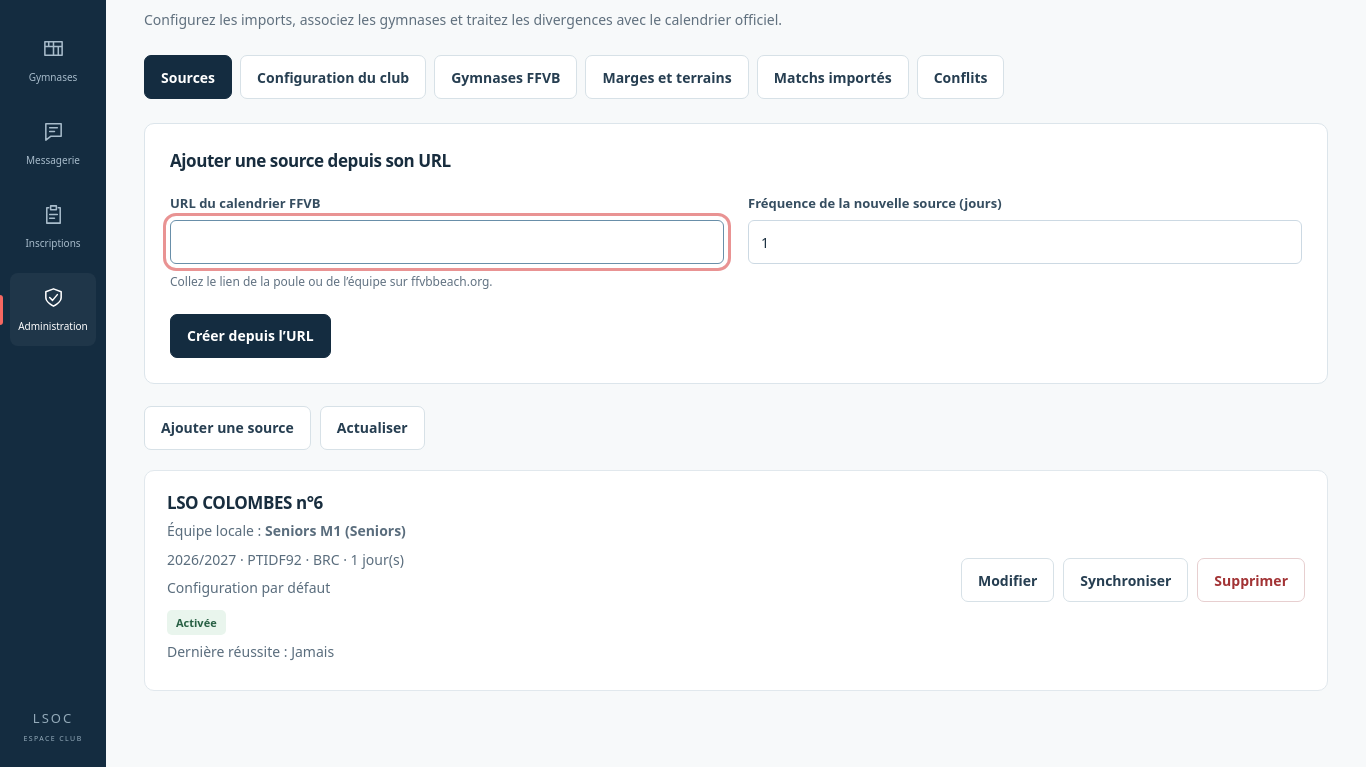
supprime une source et ses matchs après confirmation
(page scrolled)
Click the button "Supprimer".
click(1251, 580)  # box [1197,558,1305,602]
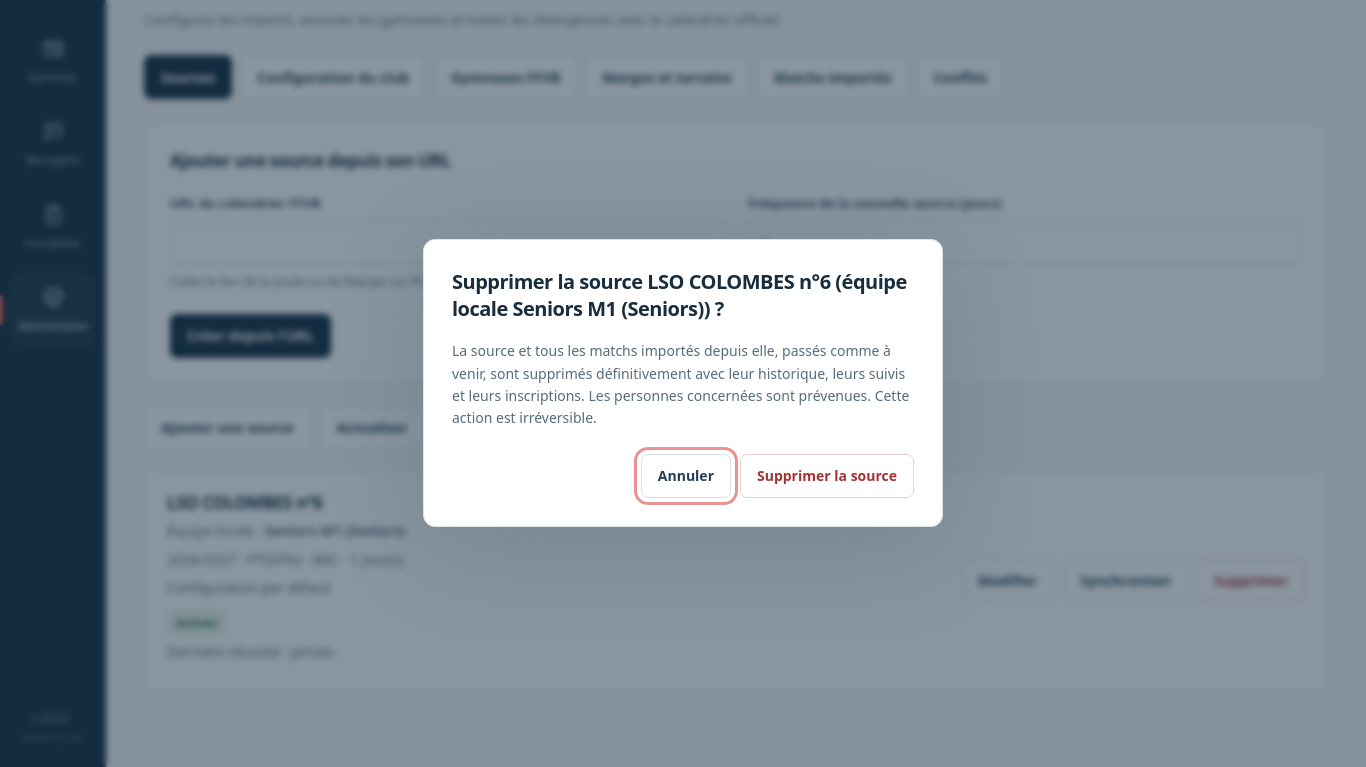
Click the button "Supprimer la source".
click(827, 476)  # box [740,454,914,498]
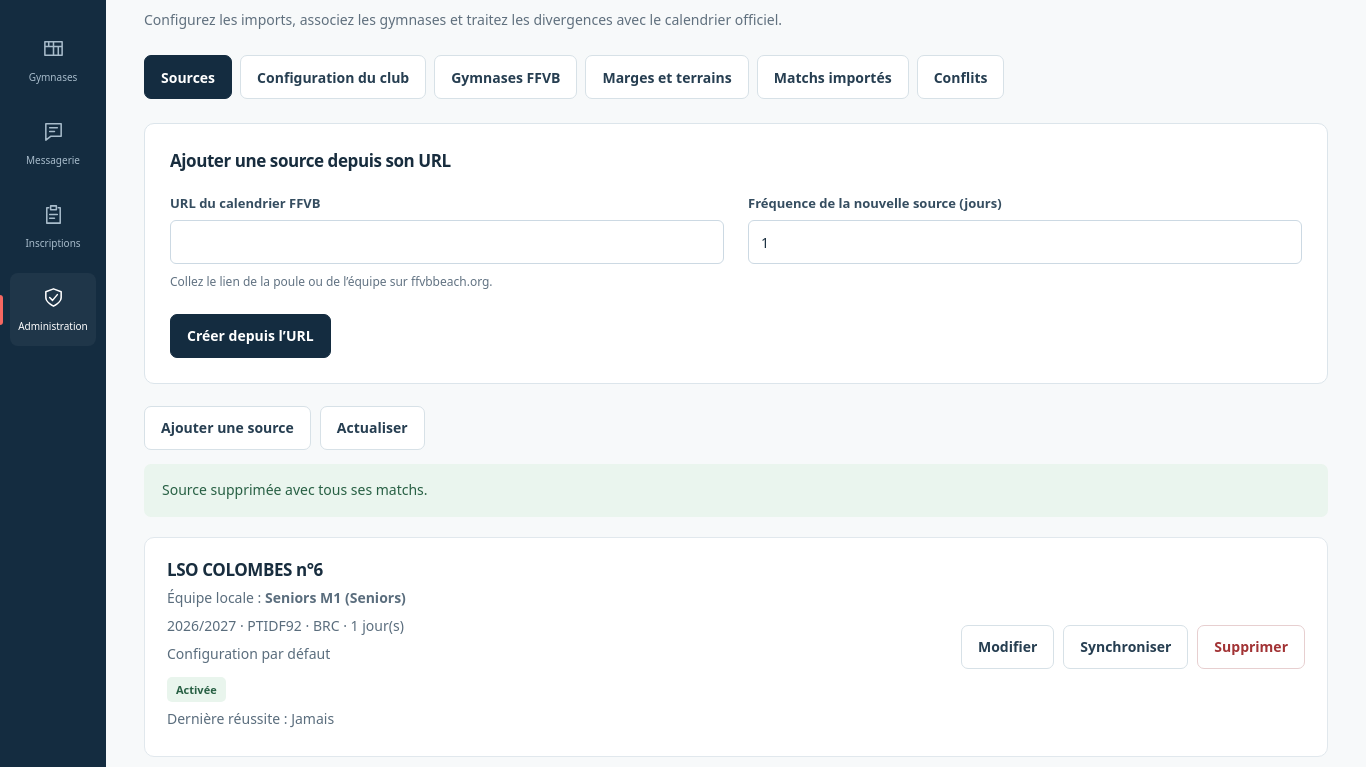
Check: the text "Source supprimée avec tous ses matchs." is shown, box [144,464,1328,517]
